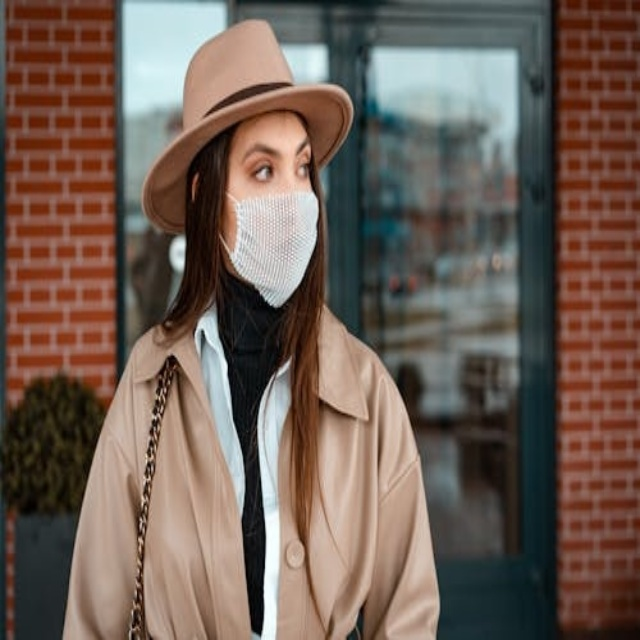Mascara: (219, 187, 320, 305)
Sin_gafas: (251, 162, 274, 182), (296, 161, 311, 179)
